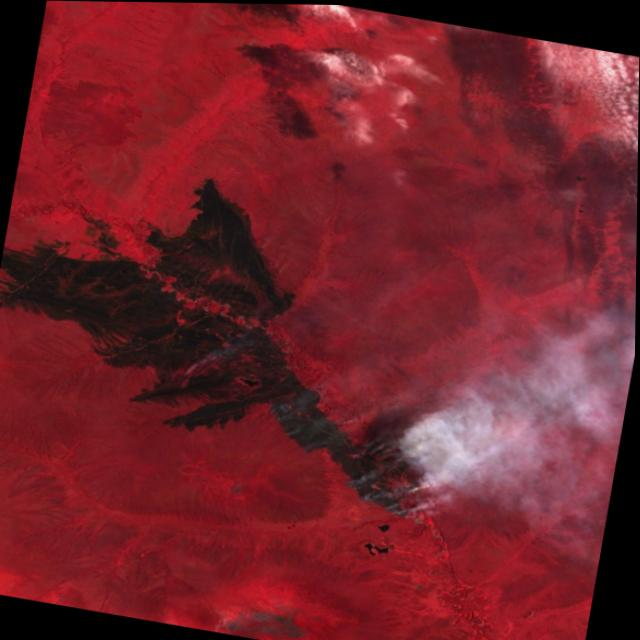fire: (246, 386, 445, 528)
